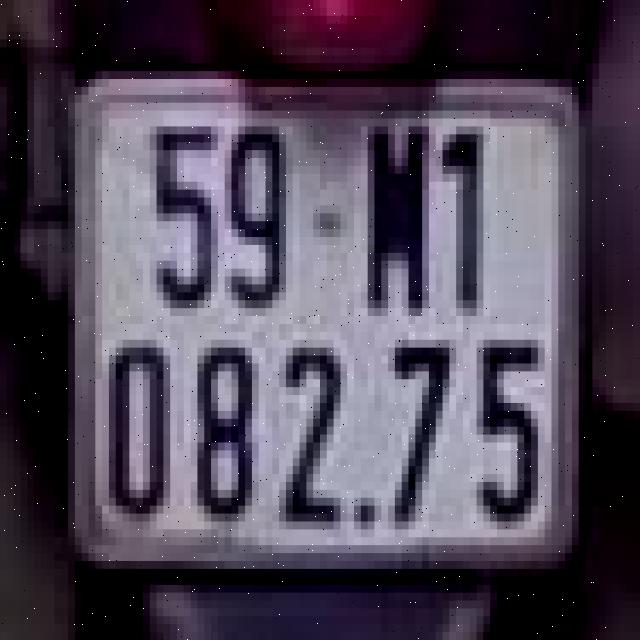0: (102, 328, 177, 525)
1: (436, 111, 497, 324)
2: (276, 328, 344, 533)
5: (140, 119, 221, 316), (473, 332, 548, 529)
7: (381, 328, 456, 533)
8: (187, 332, 262, 521)
9: (221, 119, 296, 308)
M: (361, 107, 429, 320)
